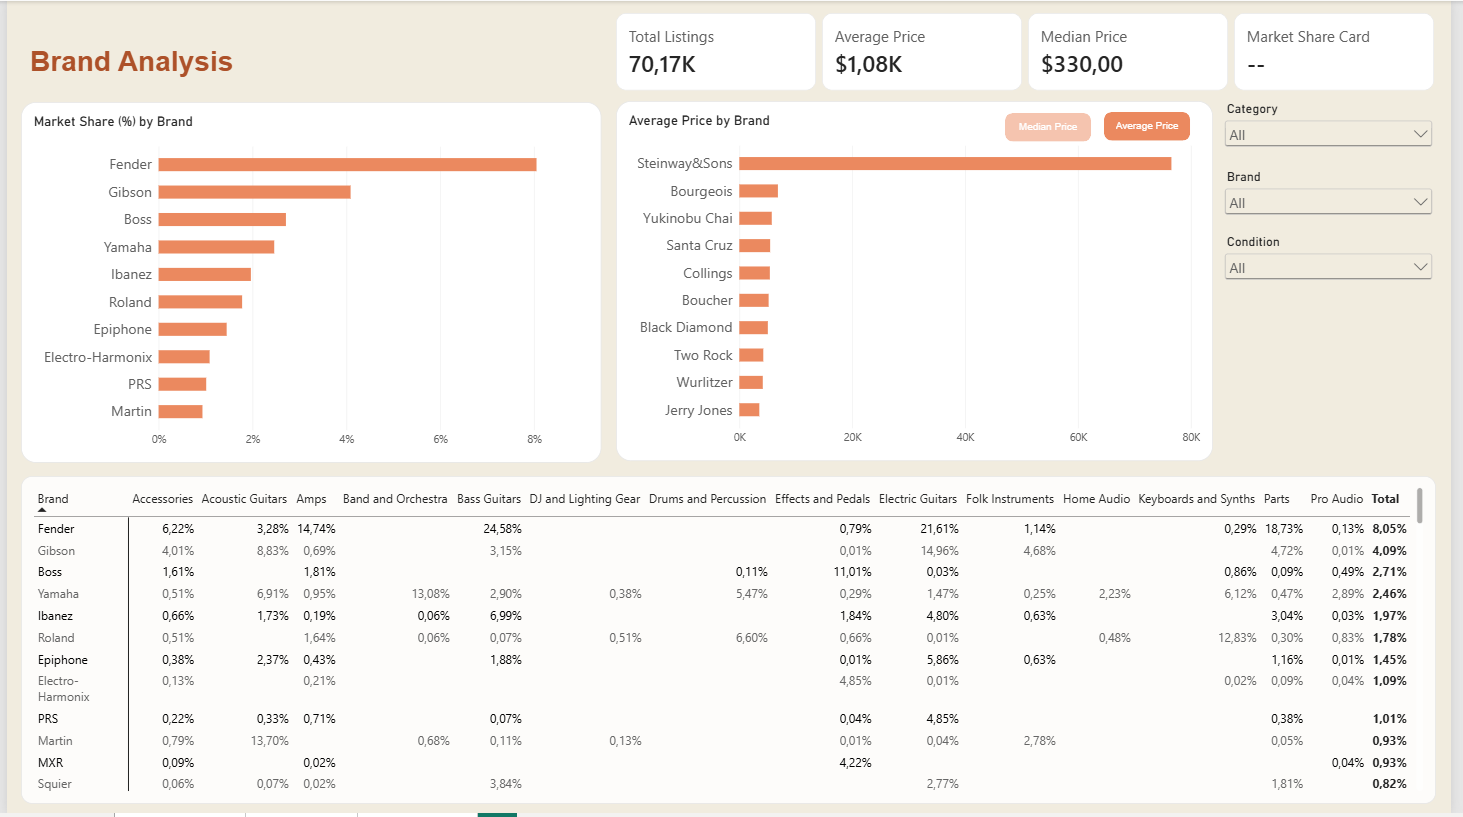

The dashboard page shown, as its layout file describes it:
{"tool":"powerbi","page":{"name":"Brand Analysis","canvas":[1920,1080],"ordinal":2},"visuals":[{"type":"cardVisual","title":"KPI Card","fields":{"Data":["metrics.total_listings","metrics.Average_price","metrics.median_price","metrics.Market Share Card"]},"box":[810.6,16.3,1090.4,103.2],"z":0},{"type":"clusteredBarChart","title":"Average Price by Brand","fields":{"Category":["public vw_listings_analysis.make"],"Y":["metrics.min10_avg_price"]},"box":[809.7,132.8,793.7,478.7],"z":0,"group":"g3"},{"type":"actionButton","title":"unselected avg price","box":[1458.8,147.5,114.6,38.2],"z":0,"group":"g4"},{"type":"actionButton","title":"unselected m price","box":[1326.6,148.4,114.6,38.2],"z":0,"group":"g2"},{"type":"clusteredBarChart","title":"Market Share (%) by Brand","fields":{"Category":["brand_table.make"],"Y":["metrics.market_share_%"]},"box":[19,134.2,771.8,480],"z":1000},{"type":"actionButton","title":"selected avg price","box":[1458.4,148,114.6,38.2],"z":1000,"group":"g4"},{"type":"textbox","title":"Title","box":[31.2,58.4,458.1,61.3],"z":2000},{"type":"group","id":"g1","title":"Group 1","box":[1614.5,133.1,286.5,252.6],"z":3000},{"type":"group","id":"g2","title":"m button","box":[1326.6,147.1,114.6,39.5],"z":3000,"group":"g3"},{"type":"group","id":"g3","title":"Avg Median Category","box":[809.7,132.8,793.7,480],"z":4000},{"type":"slicer","title":"category slicer","fields":{"Values":["public vw_listings_analysis.category"]},"box":[1614.5,133.1,286,61.3],"z":4000,"group":"g1"},{"type":"group","id":"g4","title":"avg button","box":[1458.4,147.5,115.3,37.7],"z":4000,"group":"g3"},{"type":"slicer","title":"condition slicer","fields":{"Values":["public vw_listings_analysis.condition"]},"box":[1614.5,309.6,286,75.9],"z":5000,"group":"g1"},{"type":"pivotTable","fields":{"Columns":["public vw_listings_analysis.category"],"Rows":["brand_table.make"],"Values":["metrics.market_share_%"]},"box":[19,631.7,1882.1,436.2],"z":5000},{"type":"slicer","title":"brand slicer","fields":{"Values":["brand_table.make"]},"box":[1614.5,223.6,286,64.2],"z":6000,"group":"g1"}]}

Visuals, with their boxes in screenshot pixels (x1, y1, x2, y2), scaled from the page's 1920x1080 canvas onto the 1463x817 screenshot:
"KPI Card" cardVisual: rect(618, 12, 1449, 90)
"Average Price by Brand" clusteredBarChart: rect(617, 100, 1222, 463)
"unselected avg price" actionButton: rect(1112, 112, 1199, 140)
"unselected m price" actionButton: rect(1011, 112, 1098, 141)
"Market Share (%) by Brand" clusteredBarChart: rect(14, 102, 603, 465)
"selected avg price" actionButton: rect(1111, 112, 1199, 141)
"Title" textbox: rect(24, 44, 373, 91)
"Group 1" group: rect(1230, 101, 1449, 292)
"m button" group: rect(1011, 111, 1098, 141)
"Avg Median Category" group: rect(617, 100, 1222, 464)
"category slicer" slicer: rect(1230, 101, 1448, 147)
"avg button" group: rect(1111, 112, 1199, 140)
"condition slicer" slicer: rect(1230, 234, 1448, 292)
pivotTable - public vw_listings_analysis.category x brand_table.make: rect(14, 478, 1449, 808)
"brand slicer" slicer: rect(1230, 169, 1448, 218)
